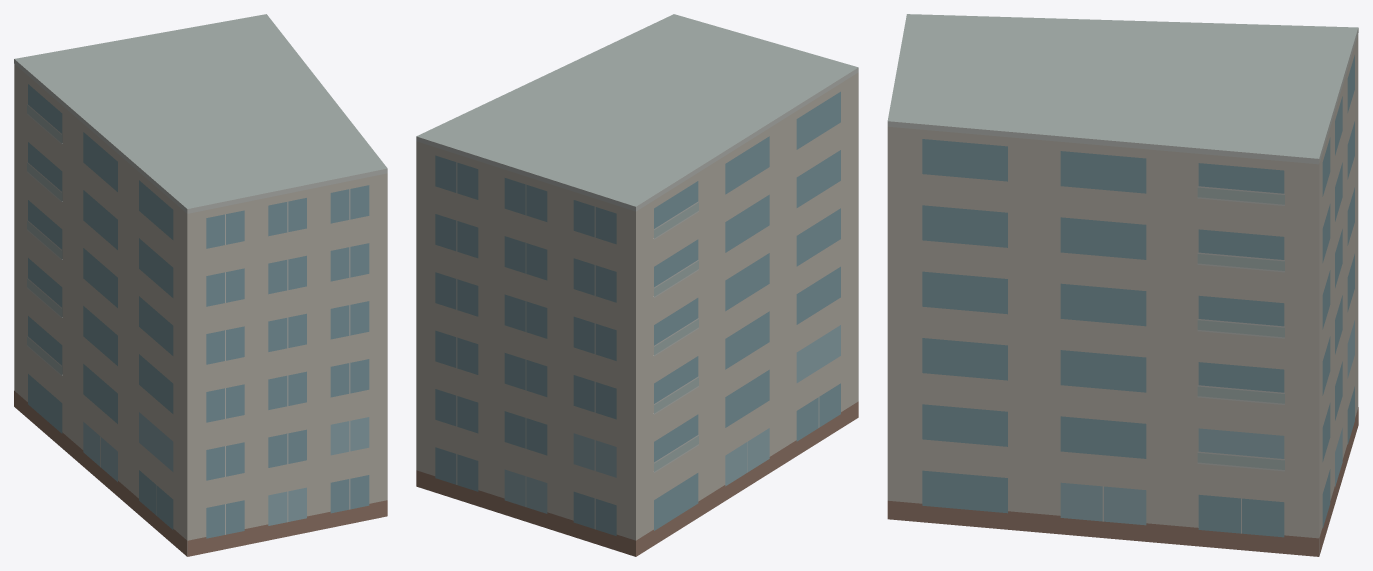
The model's file is survey-upis-32872656.glb.
3 views of the same model, side by side, from view 1: azimuth 30°, elevation 25°; view 2: azimuth 150°, elevation 25°; view 3: azimuth 270°, elevation 25° (orthographic). The views are drawn at different scales.
Parts seen in each view (by area): view 1: survey-upis-32872656.tmp; view 2: survey-upis-32872656.tmp; view 3: survey-upis-32872656.tmp.
Boxes of the visible parts, x1,y1,x2,y2 form: survey-upis-32872656.tmp: (14, 14, 387, 556); survey-upis-32872656.tmp: (416, 14, 858, 556); survey-upis-32872656.tmp: (887, 14, 1358, 556).
Size of the model in its own units: 13.83 by 17.7 by 18.99.
